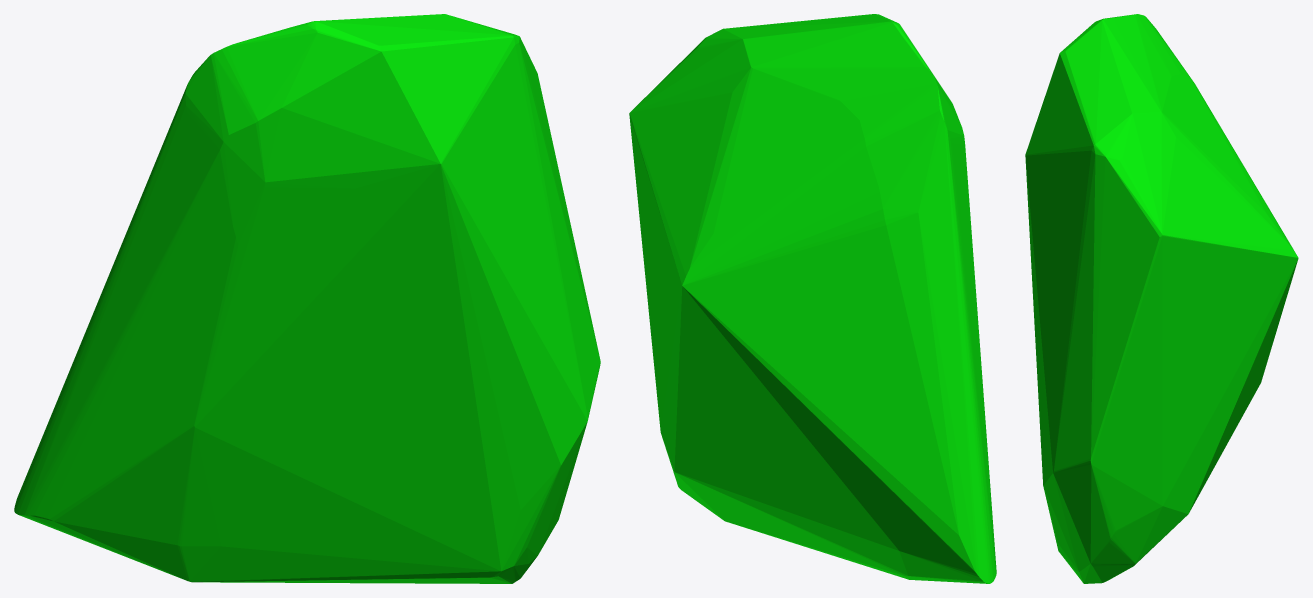
The model's file is expert.dae.
The picture shows the model from 3 angles, left to right: view 1: azimuth 30°, elevation 25°; view 2: azimuth 150°, elevation 25°; view 3: azimuth 270°, elevation 25°; orthographic projection. The views are drawn at different scales.
Visible parts, largest first — view 1: Expert_Mesh; view 2: Expert_Mesh; view 3: Expert_Mesh.
Boxes of the visible parts, <box> form: Expert_Mesh: <box>14,14,600,583</box>; Expert_Mesh: <box>629,14,996,583</box>; Expert_Mesh: <box>1025,14,1298,583</box>.
Bounding box in the file's own units: 0.1548 × 0.0928 × 0.1835.
